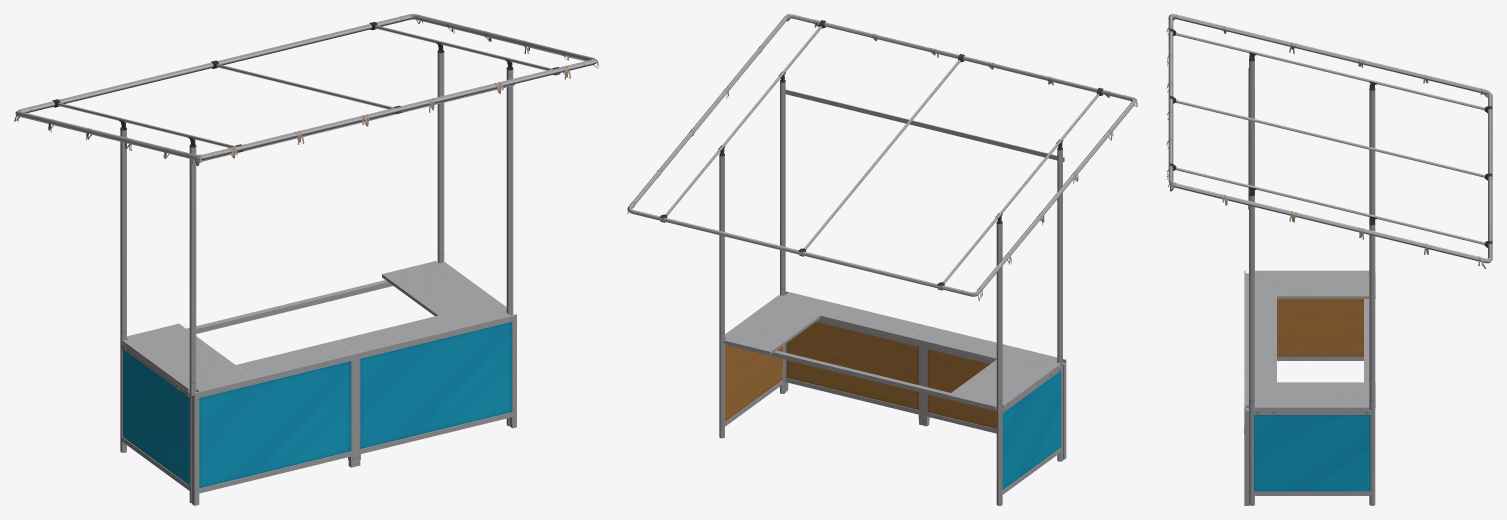
Rendered from jsf_4P_s02_c02_t03.fbx.
3 renders of one model, left to right at view 1: azimuth 30°, elevation 25°; view 2: azimuth 150°, elevation 25°; view 3: azimuth 270°, elevation 25°, orthographic. The views are drawn at different scales.
Visible parts, largest first — view 1: Base_s02_c02, Pillar4_s02, Table_4P_s02_t03, Rope_4P_s02; view 2: Base_s02_c02, Pillar4_s02, Table_4P_s02_t03, Rope_4P_s02; view 3: Base_s02_c02, Pillar4_s02, Table_4P_s02_t03, Rope_4P_s02.
Boxes of the visible parts, x1,y1,x2,y2 form: Base_s02_c02: [121, 314, 516, 505]; Pillar4_s02: [15, 14, 596, 503]; Table_4P_s02_t03: [122, 261, 509, 396]; Rope_4P_s02: [14, 15, 598, 165]; Base_s02_c02: [725, 291, 1066, 494]; Pillar4_s02: [627, 14, 1136, 505]; Table_4P_s02_t03: [723, 292, 1061, 412]; Rope_4P_s02: [627, 14, 1137, 300]; Base_s02_c02: [1244, 270, 1371, 505]; Pillar4_s02: [1168, 14, 1492, 505]; Table_4P_s02_t03: [1245, 270, 1375, 414]; Rope_4P_s02: [1166, 14, 1487, 268].
Bounding box in the file's own units: 264 × 243 × 211.
